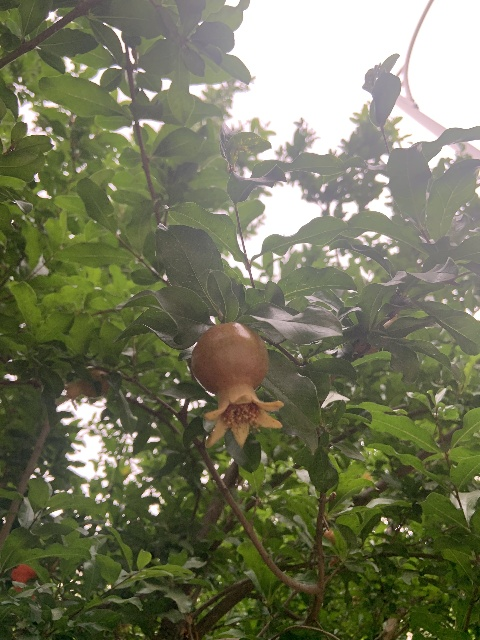early-fruit: (191, 322, 284, 450), (55, 366, 109, 412)
